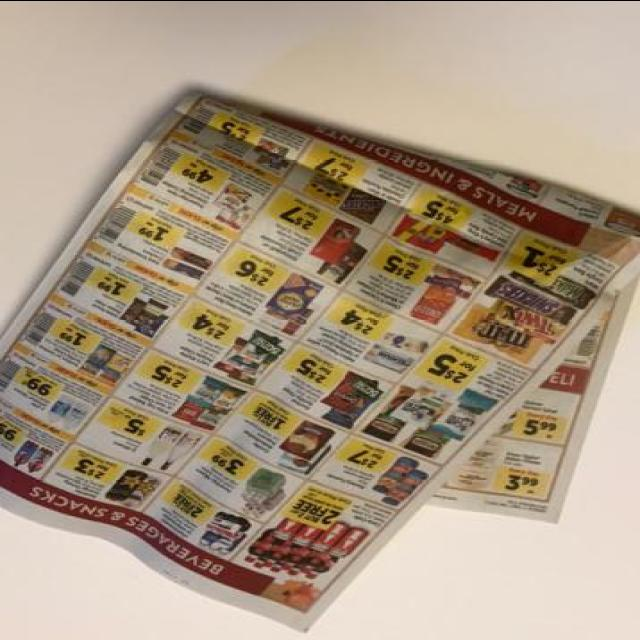kertas: (0, 89, 640, 634)
